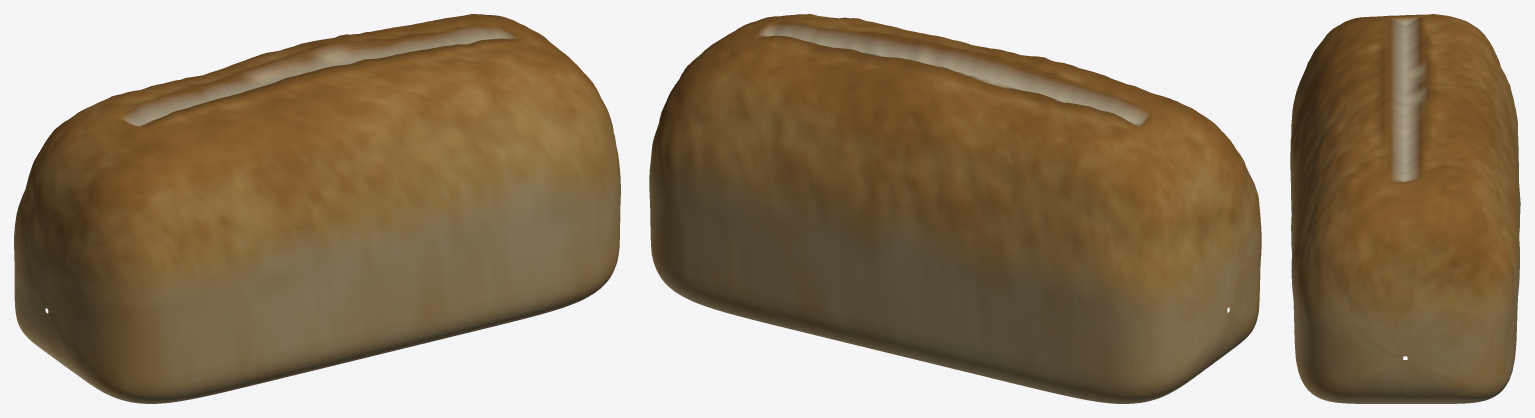
File: kasten-weissbrot.glb
The picture shows the model from 3 angles, left to right: view 1: azimuth 30°, elevation 25°; view 2: azimuth 150°, elevation 25°; view 3: azimuth 270°, elevation 25°; orthographic projection. The views are drawn at different scales.
Visible parts, largest first — view 1: kasten-weissbrot; view 2: kasten-weissbrot; view 3: kasten-weissbrot.
Boxes of the visible parts, x1,y1,x2,y2 form: kasten-weissbrot: (14,14,620,403); kasten-weissbrot: (649,14,1261,403); kasten-weissbrot: (1290,14,1520,403).
Size of the model in its own units: 0.26 by 0.12 by 0.11.
